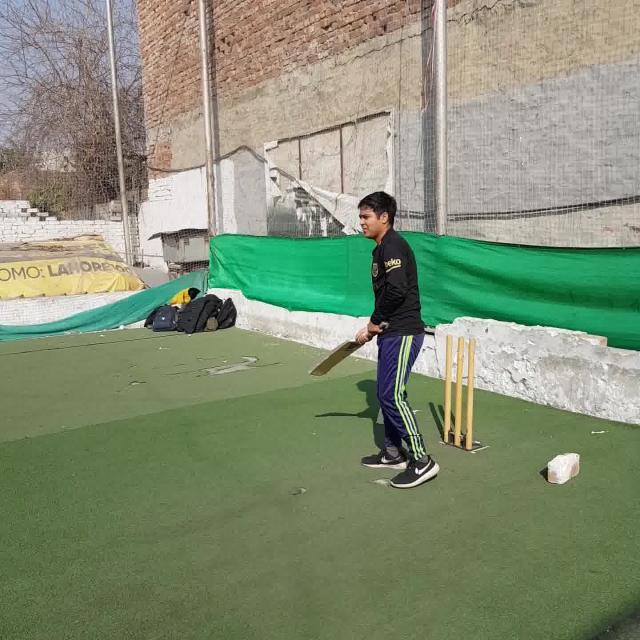bat: (309, 320, 388, 376)
